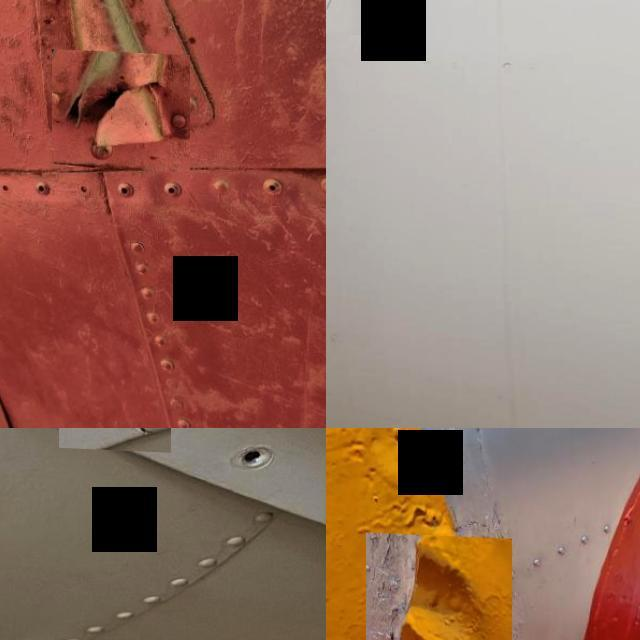Crack: (52, 46, 190, 168), (59, 428, 170, 449), (326, 0, 371, 35)
Dent: (366, 530, 511, 640)
Missing_Fastener: (231, 442, 276, 467)
